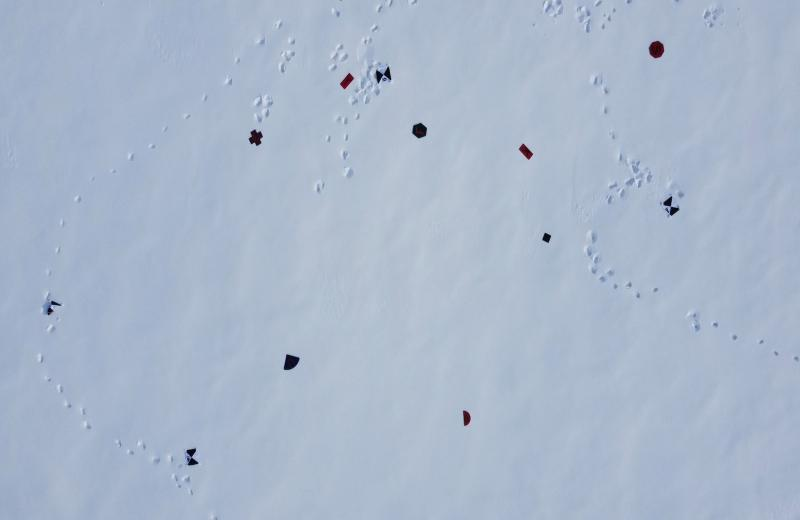Cross: (248, 128, 264, 148)
Hexagon: (410, 122, 428, 140)
Octagon: (648, 38, 666, 60)
Quarter Circle: (282, 352, 302, 372)
Rectangle: (338, 71, 356, 92), (518, 142, 534, 162)
Semi Circle: (461, 410, 472, 430)
Square: (540, 230, 552, 244)
